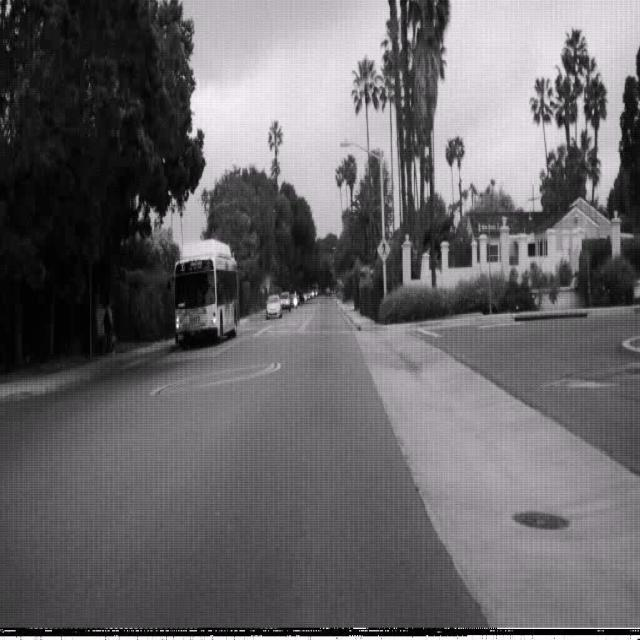pedestrianCrossing: (376, 236, 392, 264)
